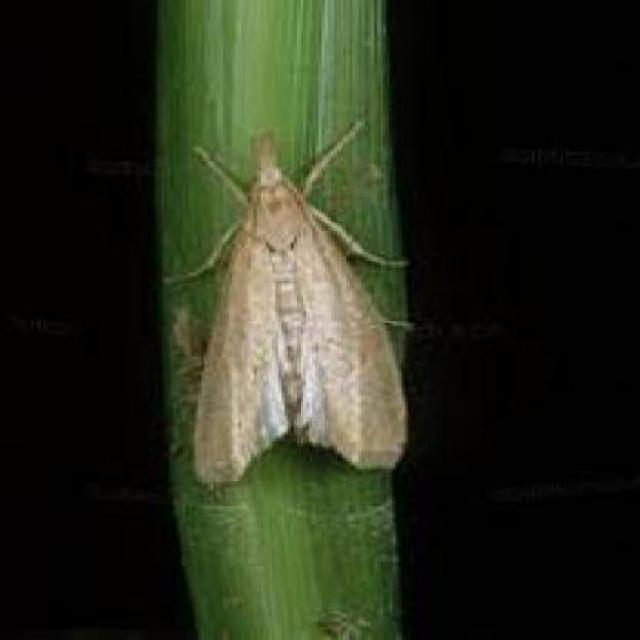stem-borer: (166, 119, 394, 472)
